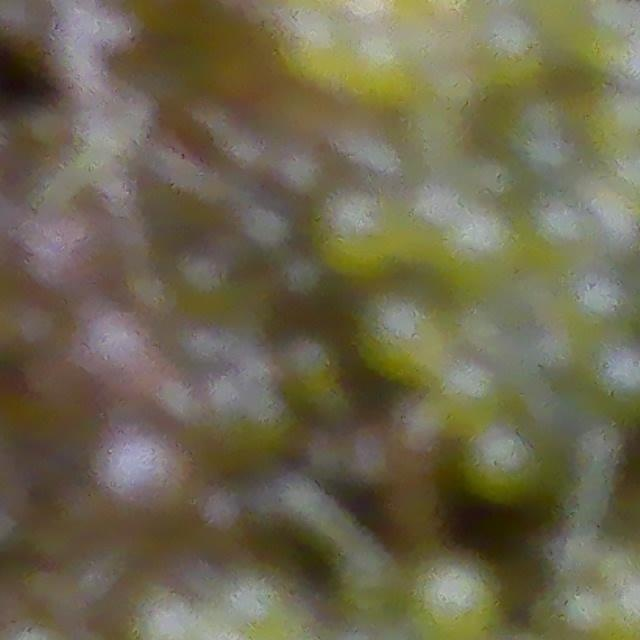SeaGrape: (355, 287, 452, 383), (410, 556, 503, 640), (459, 423, 548, 507), (81, 308, 160, 392), (105, 446, 193, 518), (355, 40, 425, 113), (288, 9, 358, 81), (485, 17, 543, 81)
